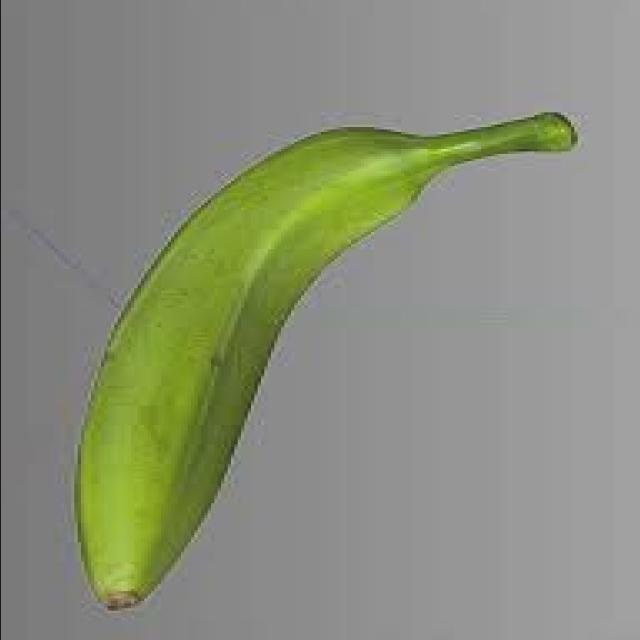non_orange: (75, 113, 582, 616)
